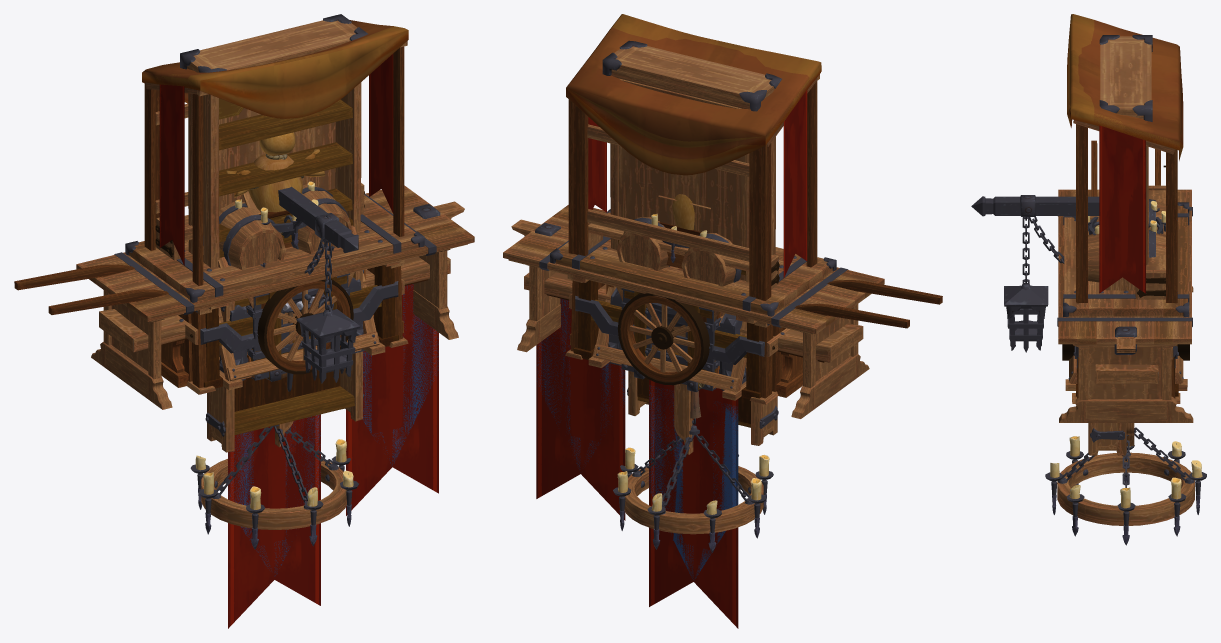
Rendered from fantasy-props.glb.
3 renders of one model, left to right at view 1: azimuth 30°, elevation 25°; view 2: azimuth 150°, elevation 25°; view 3: azimuth 270°, elevation 25°, orthographic. The views are drawn at different scales.
Parts seen in each view (by area): view 1: Stall_Cart_Empty, Bookcase_2, Stall_Empty, Table_Large, Banner_1, Banner_1_Cloth, Workbench, Shelf_Arch, Chandelier, Lantern_Wall, Barrel_Holder, Bench (+8 smaller); view 2: Stall_Empty, Stall_Cart_Empty, Bookcase_2, Banner_1, Banner_1_Cloth, Table_Large, Workbench, Chandelier, Banner_2_Cloth, Bench, Barrel_Holder, WeaponStand (+6 smaller); view 3: Stall_Empty, Table_Large, Stall_Cart_Empty, Chandelier, Lantern_Wall, Workbench, Bookcase_2, Barrel_Holder, Bench, Shelf_Arch, WeaponStand, Banner_1 (+1 smaller).
Part boxes in pixels (bbox=[...]): Stall_Cart_Empty: bbox=[14, 26, 408, 381]; Bookcase_2: bbox=[180, 14, 367, 359]; Stall_Empty: bbox=[142, 20, 408, 394]; Table_Large: bbox=[76, 185, 474, 409]; Banner_1: bbox=[275, 201, 464, 515]; Banner_1_Cloth: bbox=[228, 414, 320, 628]; Workbench: bbox=[125, 195, 424, 388]; Shelf_Arch: bbox=[205, 225, 363, 452]; Chandelier: bbox=[190, 424, 358, 549]; Lantern_Wall: bbox=[278, 186, 360, 383]; Barrel_Holder: bbox=[219, 185, 365, 278]; Bench: bbox=[99, 256, 450, 387]; Stall_Empty: bbox=[565, 27, 820, 404]; Stall_Cart_Empty: bbox=[567, 14, 942, 391]; Bookcase_2: bbox=[602, 40, 781, 371]; Banner_1: bbox=[511, 219, 693, 520]; Banner_1_Cloth: bbox=[649, 379, 738, 628]; Table_Large: bbox=[503, 205, 884, 418]; Workbench: bbox=[550, 209, 836, 399]; Chandelier: bbox=[613, 418, 773, 552]; Banner_2_Cloth: bbox=[649, 385, 738, 580]; Bench: bbox=[524, 272, 863, 397]; Barrel_Holder: bbox=[606, 217, 746, 367]; WeaponStand: bbox=[588, 286, 746, 400]; Stall_Empty: bbox=[1071, 20, 1183, 403]; Table_Large: bbox=[1057, 189, 1193, 422]; Stall_Cart_Empty: bbox=[1062, 14, 1189, 360]; Chandelier: bbox=[1045, 427, 1206, 545]; Lantern_Wall: bbox=[971, 195, 1099, 352]; Workbench: bbox=[1063, 202, 1189, 396]; Bookcase_2: bbox=[1099, 35, 1152, 290]; Barrel_Holder: bbox=[1088, 199, 1165, 282]; Bench: bbox=[1095, 364, 1158, 383]; Shelf_Arch: bbox=[1088, 423, 1126, 455]; WeaponStand: bbox=[1065, 277, 1187, 390]; Banner_1: bbox=[1114, 326, 1136, 445].
Bounding box in the file's own units: 3.72 × 4.87 × 1.9.
Materials: 5 (5 with a texture image).
